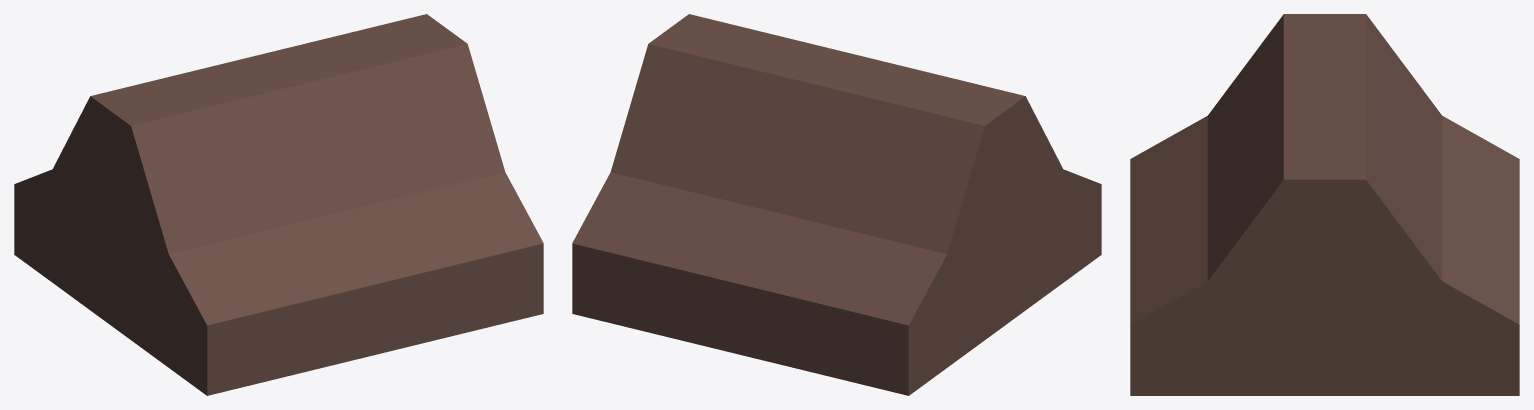
Rendered from Cave_Floor_Border_DoubleSided.fbx.
The picture shows the model from 3 angles, left to right: view 1: azimuth 30°, elevation 25°; view 2: azimuth 150°, elevation 25°; view 3: azimuth 270°, elevation 25°; orthographic projection.
Parts seen in each view (by area): view 1: Cave_Floor_Border_DoubleSided; view 2: Cave_Floor_Border_DoubleSided; view 3: Cave_Floor_Border_DoubleSided.
Part boxes in pixels (x1,y1,x2,y2): Cave_Floor_Border_DoubleSided: [14, 14, 543, 395]; Cave_Floor_Border_DoubleSided: [572, 14, 1101, 395]; Cave_Floor_Border_DoubleSided: [1130, 14, 1519, 395].
Size of the model in its own units: 5 by 4.97 by 3.04.
